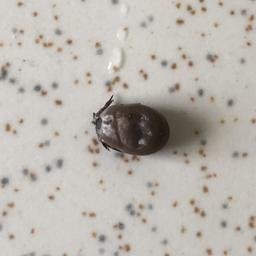Rhipicephalus sanguineus: (91, 95, 170, 156)
